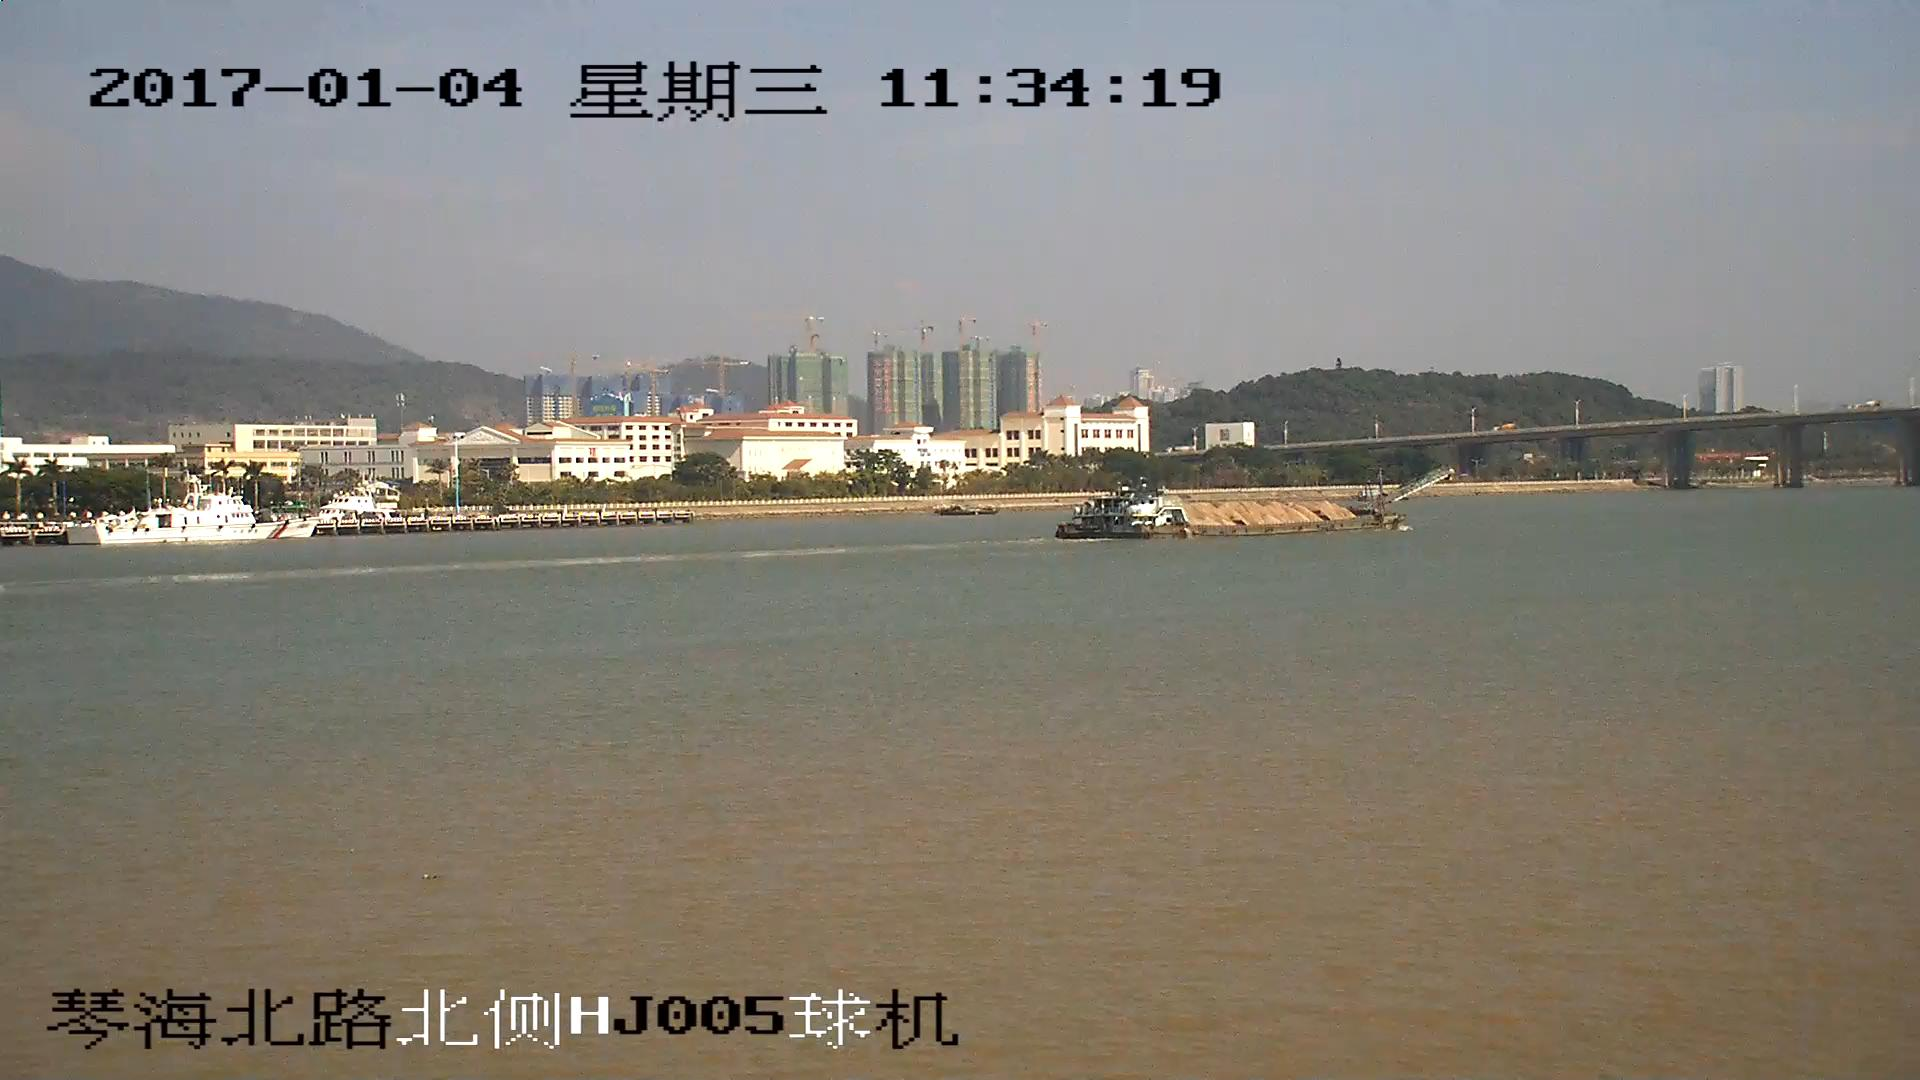ore carrier: (1058, 469, 1448, 538)
